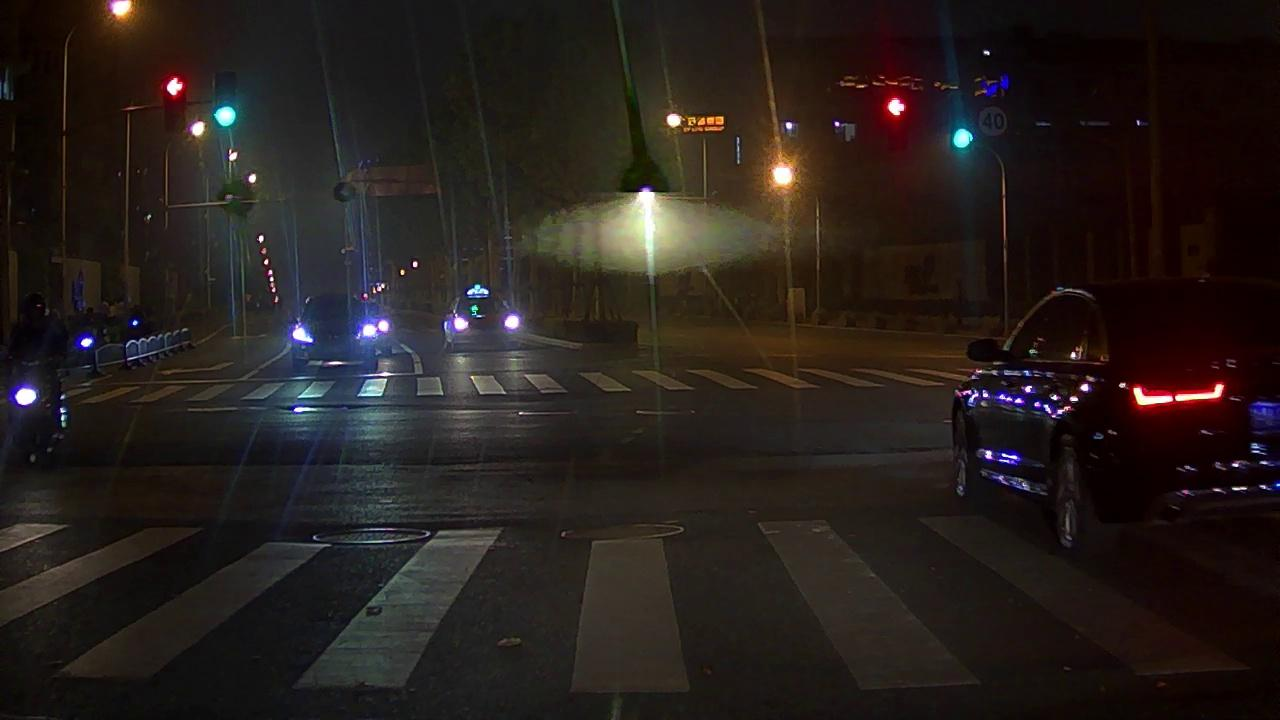traffic_light: (164, 75, 187, 133), (216, 71, 237, 132), (885, 94, 907, 152), (950, 102, 972, 154)
